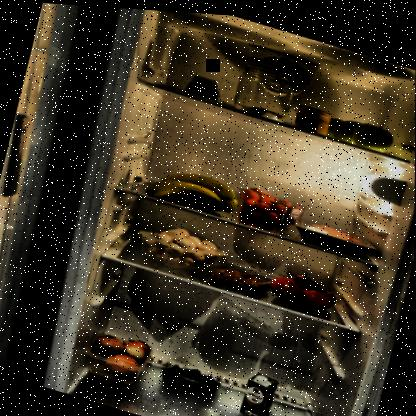apple: (319, 104, 397, 151)
banana: (144, 156, 244, 219)
blueberries: (160, 355, 224, 398)
corn: (293, 98, 334, 136)
heavy_cream: (239, 365, 283, 415)
mushrooms: (128, 212, 237, 280)
onion: (90, 327, 151, 388)
shrimp: (211, 261, 270, 296)
strawberries: (235, 178, 312, 231)
tomato: (265, 259, 345, 314)
